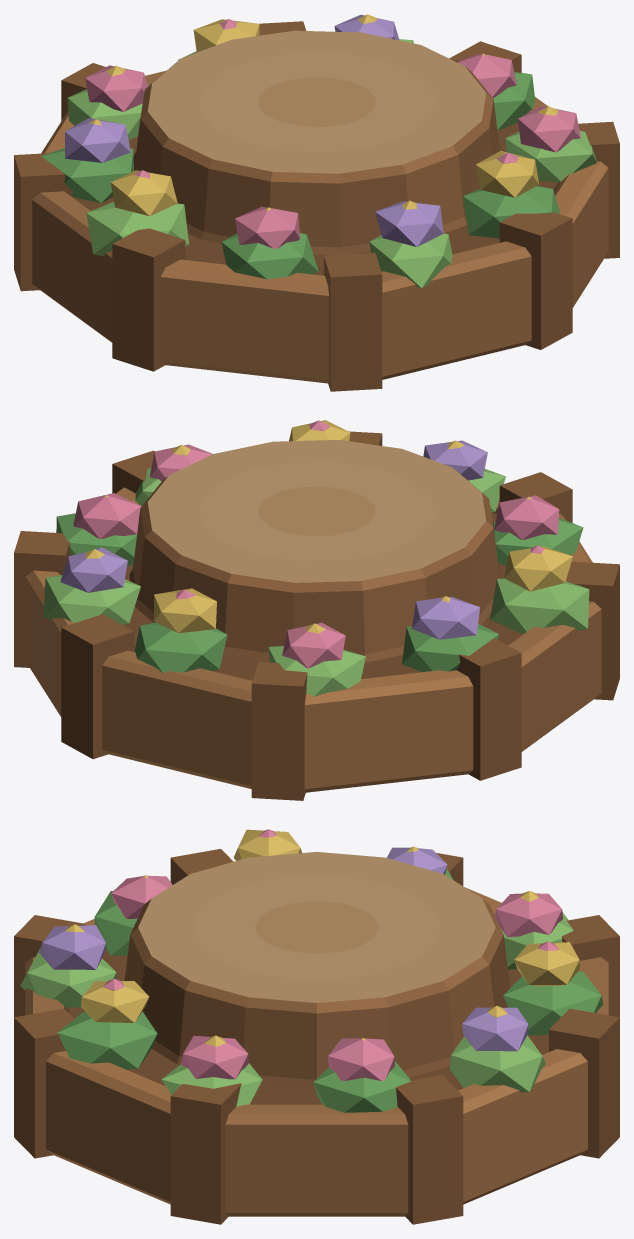
File: phoenix_pad_flower_bed.fbx
3 views of the same model, one above another, from view 1: azimuth 30°, elevation 25°; view 2: azimuth 150°, elevation 25°; view 3: azimuth 270°, elevation 25° (orthographic). The views are drawn at different scales.
Visible parts, largest first — view 1: phoenix_pad_flower_bed; view 2: phoenix_pad_flower_bed; view 3: phoenix_pad_flower_bed.
Boxes of the visible parts, x1,y1,x2,y2 form: phoenix_pad_flower_bed: [14, 14, 619, 391]; phoenix_pad_flower_bed: [14, 420, 619, 800]; phoenix_pad_flower_bed: [14, 829, 619, 1224].
Bounding box in the file's own units: 7.79 × 2.4 × 7.79.
